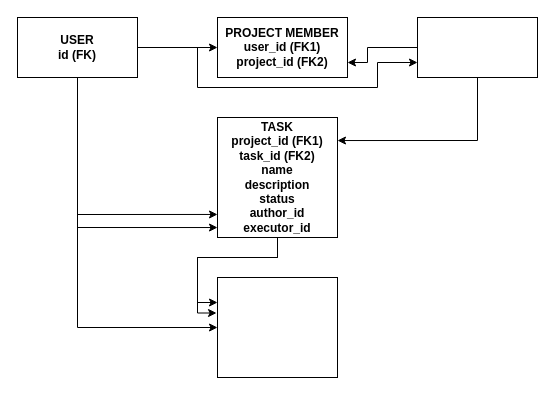
Image size: 555x395. Some labels were removed from this diagram. The shapes that lost their labels are listed below. From the top down, each one's centre as x and y in pixels, then its label:
At pixel 477 47: "PROJECT id (FK) owner_id".
At pixel 277 327: "TASK LOG project_id task_id user_id from_status to_status changed_at".
